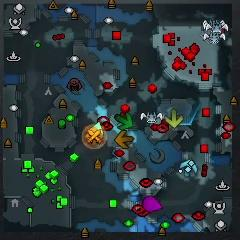Other: (82, 124, 107, 149)
p2: (87, 121, 105, 140)
p3: (142, 195, 163, 214)
x2: (163, 109, 184, 128)
x3: (180, 159, 197, 177)
x4: (115, 111, 133, 130)
x5: (114, 130, 135, 149)
